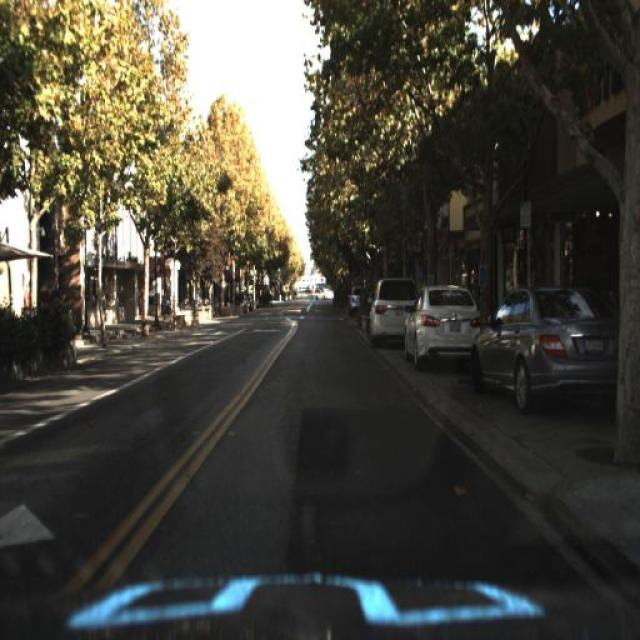car: (466, 284, 622, 410), (402, 282, 478, 372), (364, 275, 418, 354), (348, 286, 363, 319)
trafficLight: (17, 272, 41, 333)
